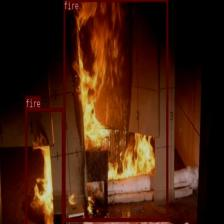fire: (63, 0, 167, 221), (24, 107, 64, 224)
